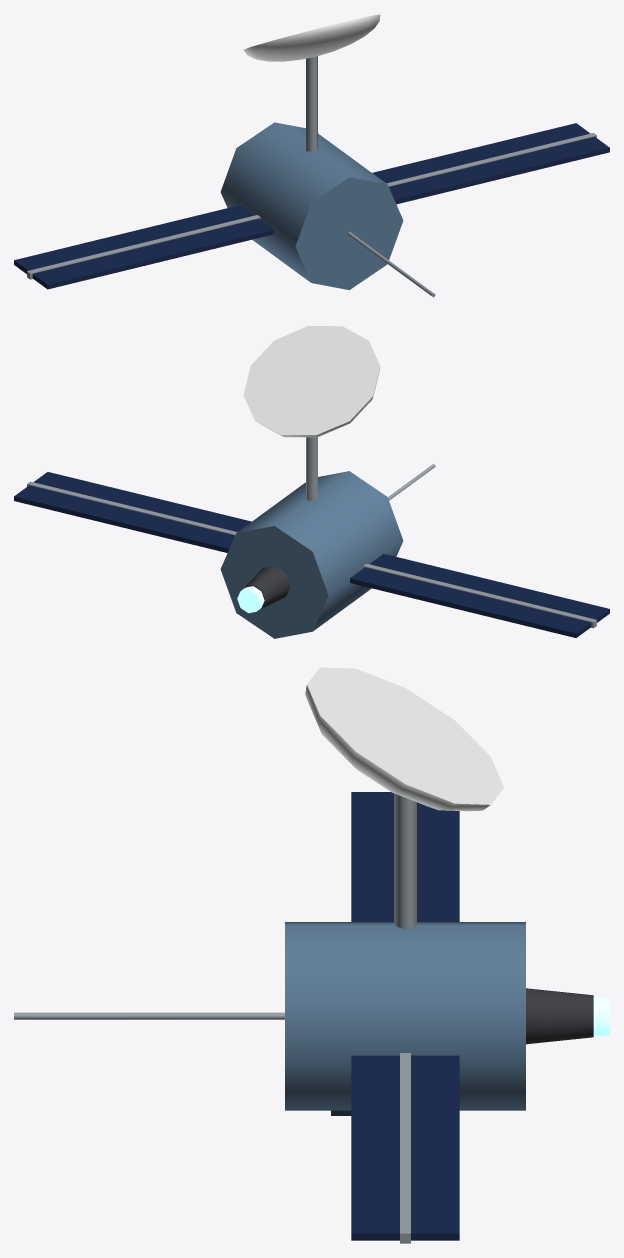
File: space_ship_probe_mk5.glb
The picture shows the model from 3 angles, top to bottom: view 1: azimuth 30°, elevation 25°; view 2: azimuth 150°, elevation 25°; view 3: azimuth 270°, elevation 25°; orthographic projection. The views are drawn at different scales.
Visible parts, largest first — view 1: body, solar_0, solar_1, antenna_0; view 2: body, antenna_0, solar_0, solar_1, engine_0; view 3: body, solar_1, antenna_0, solar_0, engine_0.
Part boxes in pixels (x1=…): body: x1=220, y1=122, x2=435, y2=297; solar_0: x1=14, y1=205, x2=273, y2=289; solar_1: x1=372, y1=123, x2=609, y2=204; antenna_0: x1=244, y1=14, x2=380, y2=152; body: x1=220, y1=463, x2=435, y2=638; antenna_0: x1=243, y1=326, x2=380, y2=500; solar_0: x1=350, y1=553, x2=609, y2=637; solar_1: x1=14, y1=472, x2=251, y2=552; engine_0: x1=237, y1=565, x2=290, y2=613; body: x1=14, y1=922, x2=525, y2=1115; solar_1: x1=351, y1=1053, x2=459, y2=1243; antenna_0: x1=305, y1=667, x2=503, y2=929; solar_0: x1=351, y1=792, x2=459, y2=921; engine_0: x1=526, y1=988, x2=609, y2=1044.
Size of what is drawn, in the model's own units: 7.76 by 3.44 by 4.4.
